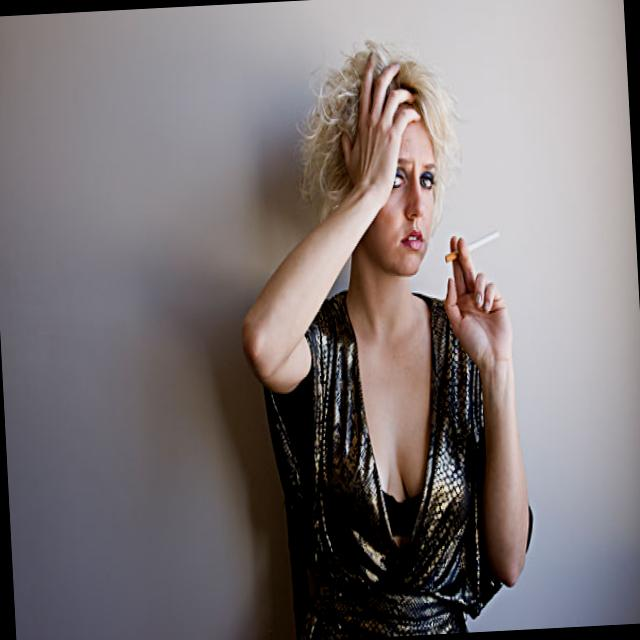cigarette: (440, 226, 502, 268)
